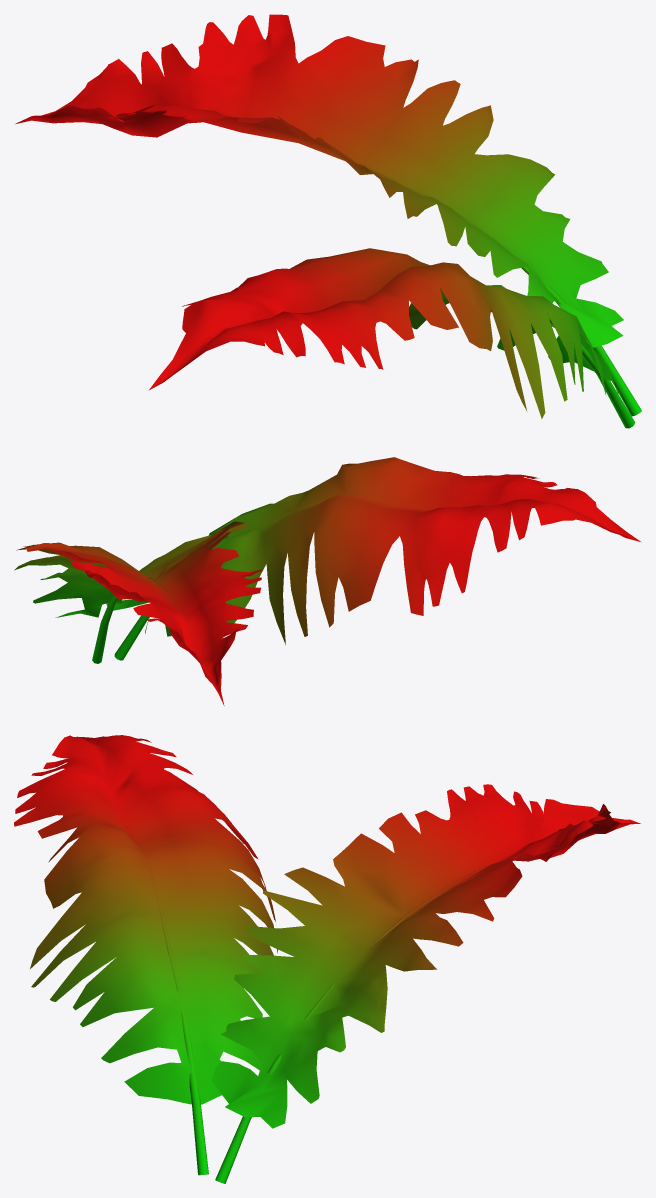
Rendered from Lady Fern_LOD0_Var11_wdvlditia.fbx.
3 renders of one model, top to bottom at view 1: azimuth 30°, elevation 25°; view 2: azimuth 150°, elevation 25°; view 3: azimuth 270°, elevation 25°, orthographic. The views are drawn at different scales.
Parts seen in each view (by area): view 1: _byk0_Var11_LOD0; view 2: _byk0_Var11_LOD0; view 3: _byk0_Var11_LOD0.
Part boxes in pixels (x1=…): _byk0_Var11_LOD0: x1=15, y1=14, x2=641, y2=428; _byk0_Var11_LOD0: x1=14, y1=457, x2=641, y2=705; _byk0_Var11_LOD0: x1=14, y1=735, x2=640, y2=1183.
Bounding box in the file's own units: 41.65 × 20.22 × 42.8.
